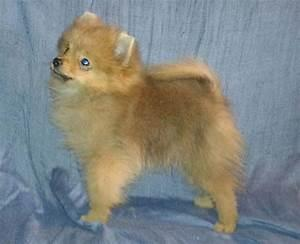dog: (46, 10, 248, 233)
